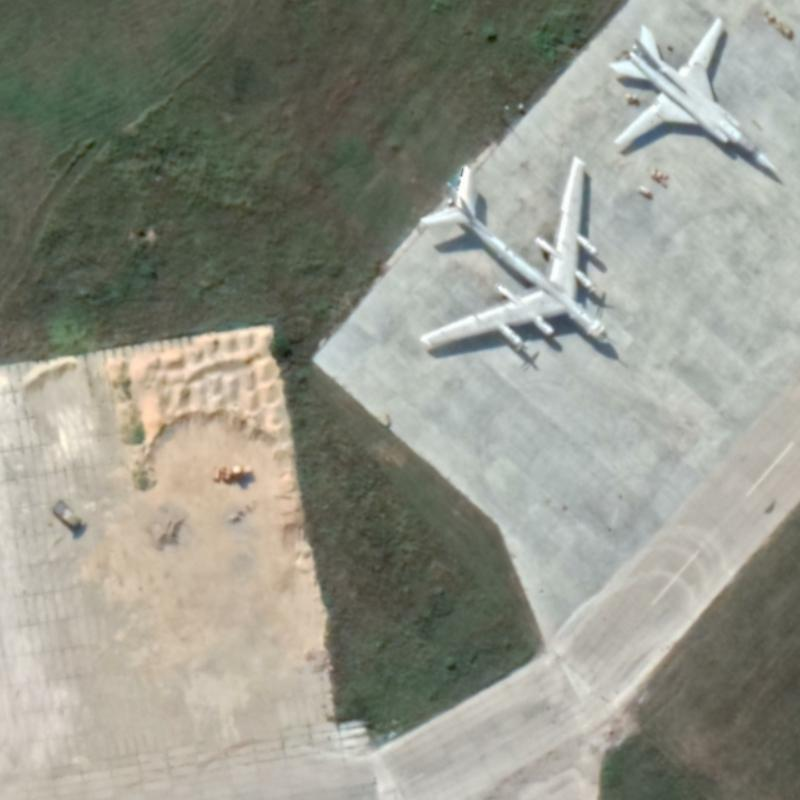A12: (604, 12, 780, 176)
A17: (413, 151, 614, 354)
